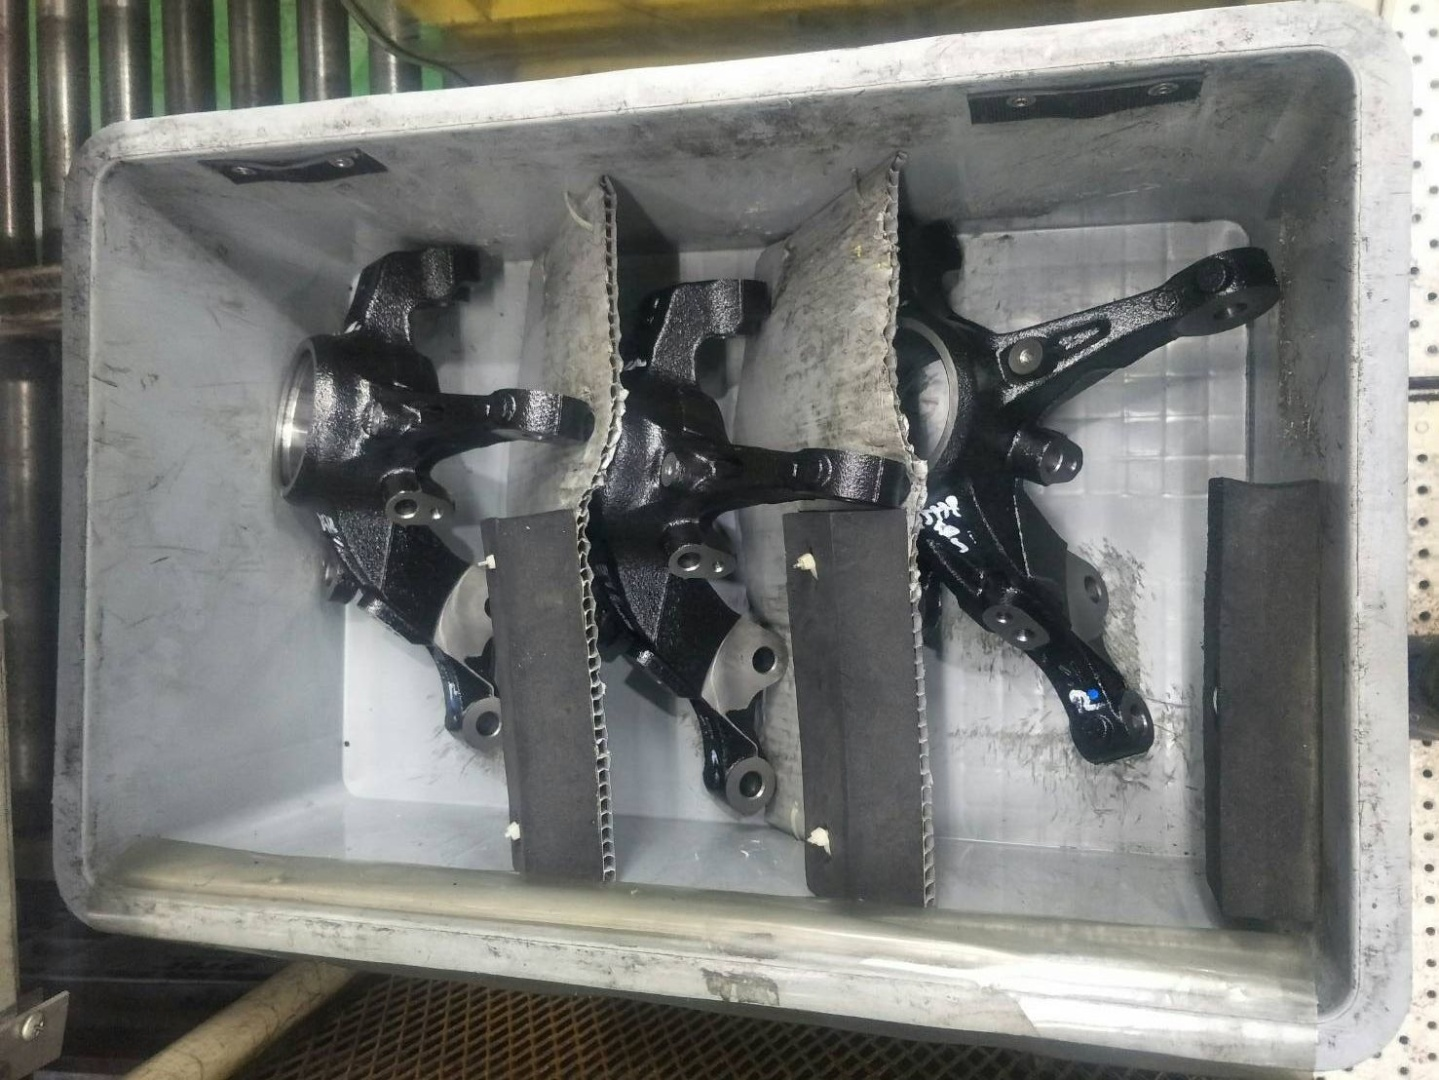abs-rh: (894, 217, 1287, 773), (590, 268, 907, 822), (265, 236, 592, 759)
